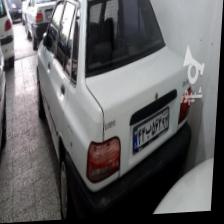plate: (134, 105, 172, 156), (45, 10, 52, 20)
